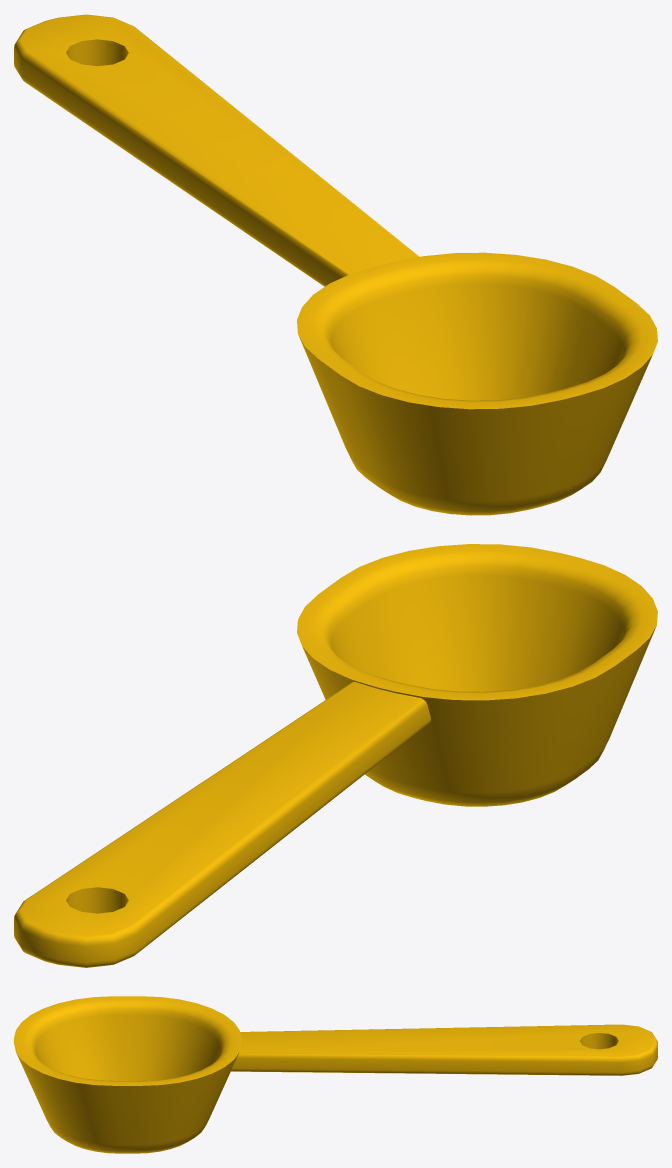
Rendered from Kitchen Tools_2.fbx.
3 views of the same model, one above another, from view 1: azimuth 30°, elevation 25°; view 2: azimuth 150°, elevation 25°; view 3: azimuth 270°, elevation 25° (orthographic). The views are drawn at different scales.
Visible parts, largest first — view 1: Kitchen Tools_2; view 2: Kitchen Tools_2; view 3: Kitchen Tools_2.
Part boxes in pixels (x1,y1,x2,y2): Kitchen Tools_2: (14,14,657,515); Kitchen Tools_2: (14,544,657,967); Kitchen Tools_2: (14,996,657,1153).
Size of the model in its own units: 0.0972 by 0.0438 by 0.2953.
